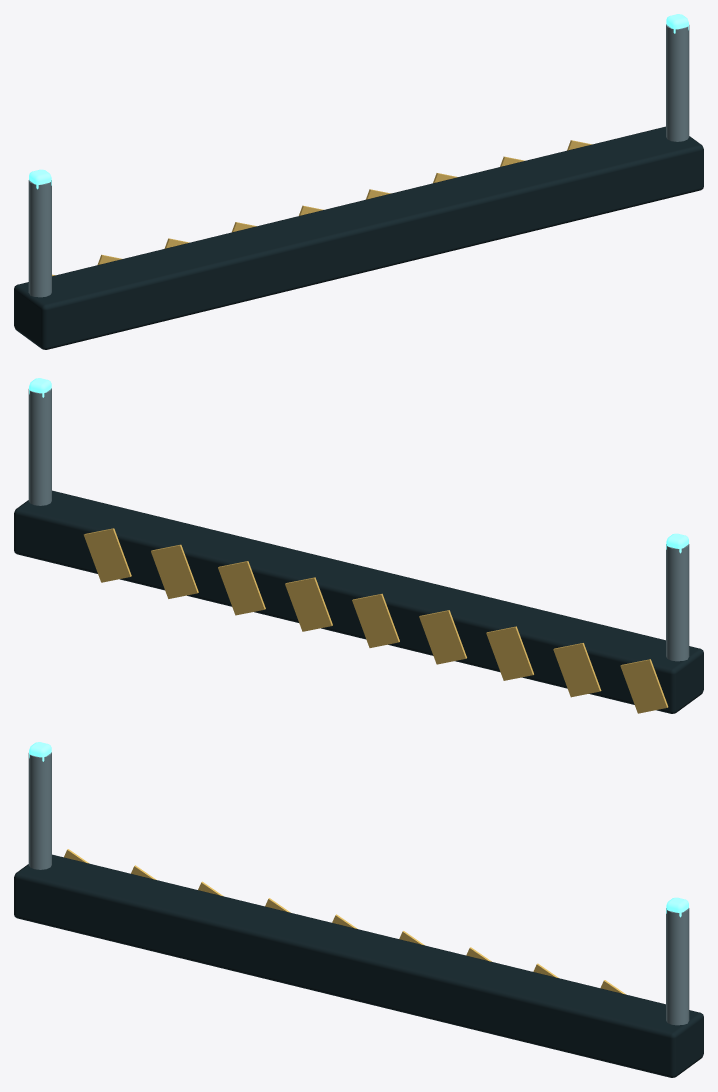
File: jump-barrier.glb
3 renders of one model, top to bottom at view 1: azimuth 30°, elevation 25°; view 2: azimuth 150°, elevation 25°; view 3: azimuth 330°, elevation 25°, orthographic.
Parts seen in each view (by area): view 1: jump-barrier; view 2: jump-barrier; view 3: jump-barrier.
Boxes of the visible parts, x1=… form: jump-barrier: x1=14, y1=14, x2=703, y2=349; jump-barrier: x1=14, y1=378, x2=703, y2=713; jump-barrier: x1=14, y1=742, x2=703, y2=1077.
Size of the model in its own units: 7.9 by 1.94 by 0.6775.
